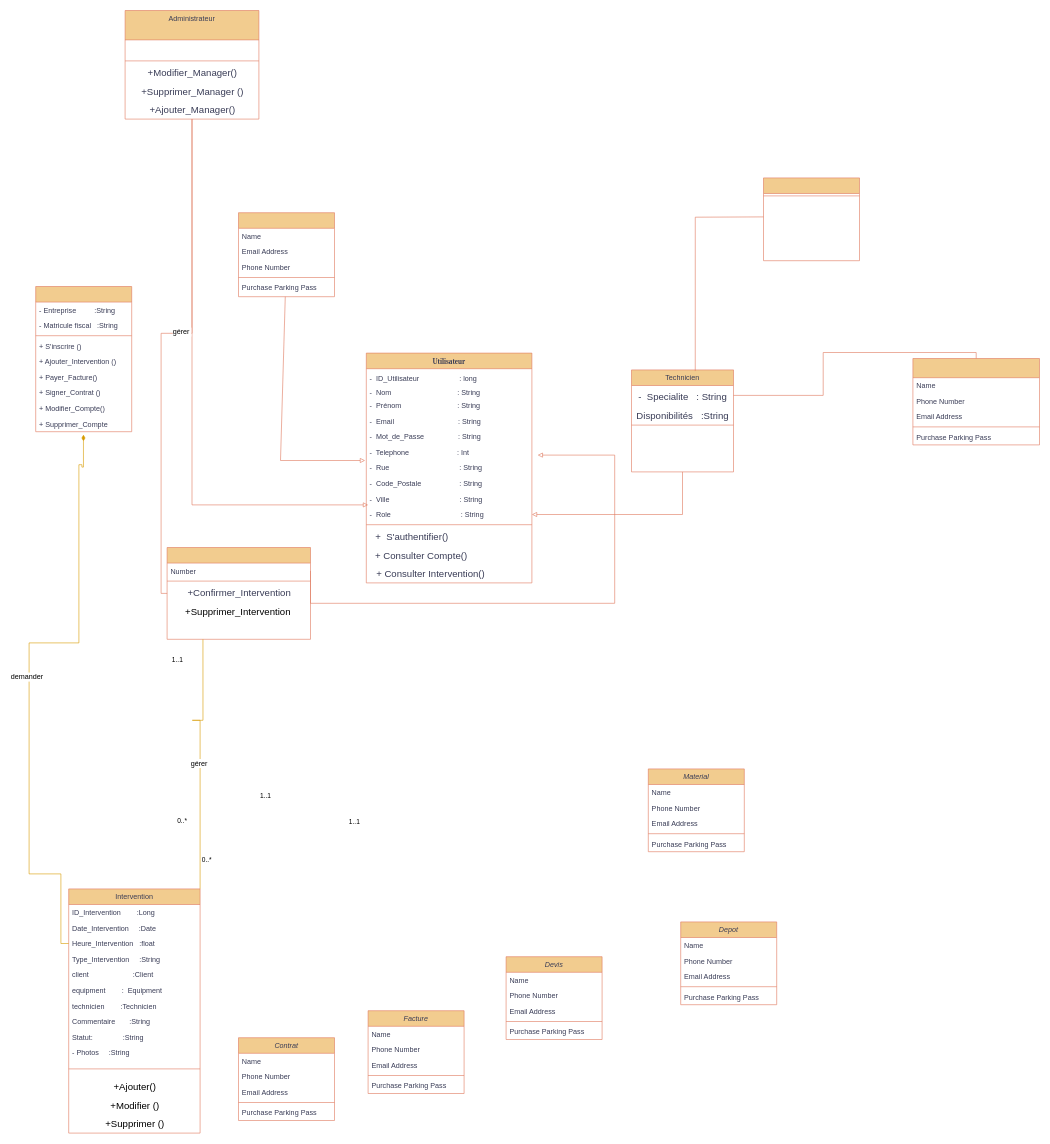
The diagram is 1050 pixels wide and 1144 high, and some of its shapes have lost their labels. The box of each missing label's shape, as (x1, y1, x2, y2) in pixels:
Client: (35, 286, 132, 432)
Emploie: (238, 212, 334, 297)
Equipment: (763, 177, 860, 261)
Manager: (166, 547, 310, 639)
Produit: (912, 358, 1040, 445)
